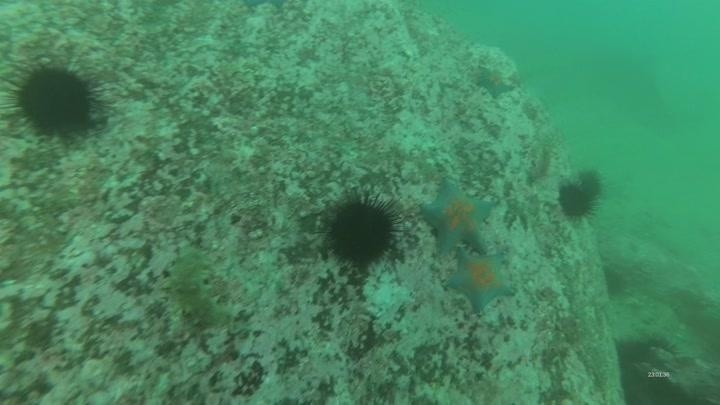echinus: (5, 60, 106, 140), (321, 192, 402, 269), (556, 181, 597, 221), (600, 265, 629, 299), (575, 167, 605, 199)
holothurian: (163, 249, 236, 332)
starfish: (418, 179, 498, 255), (443, 248, 517, 313), (474, 65, 516, 99), (241, 0, 288, 12)
